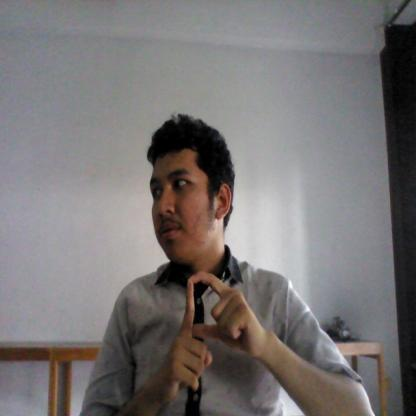D: (158, 268, 265, 402)
